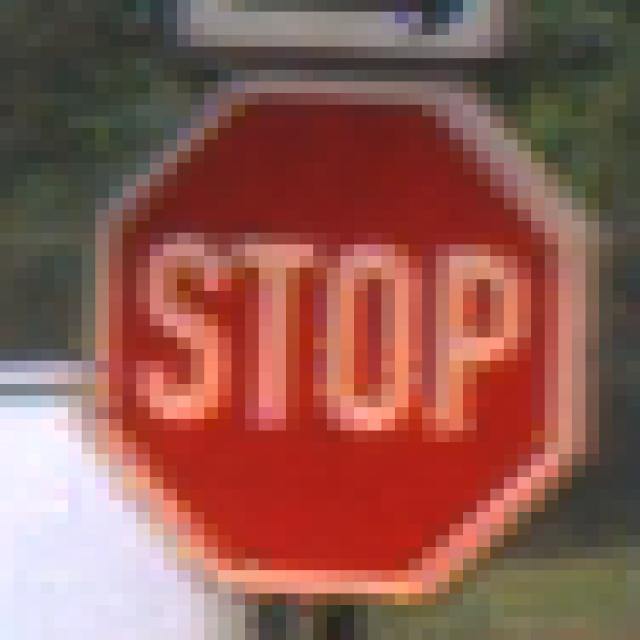STOP: (83, 71, 559, 583)
